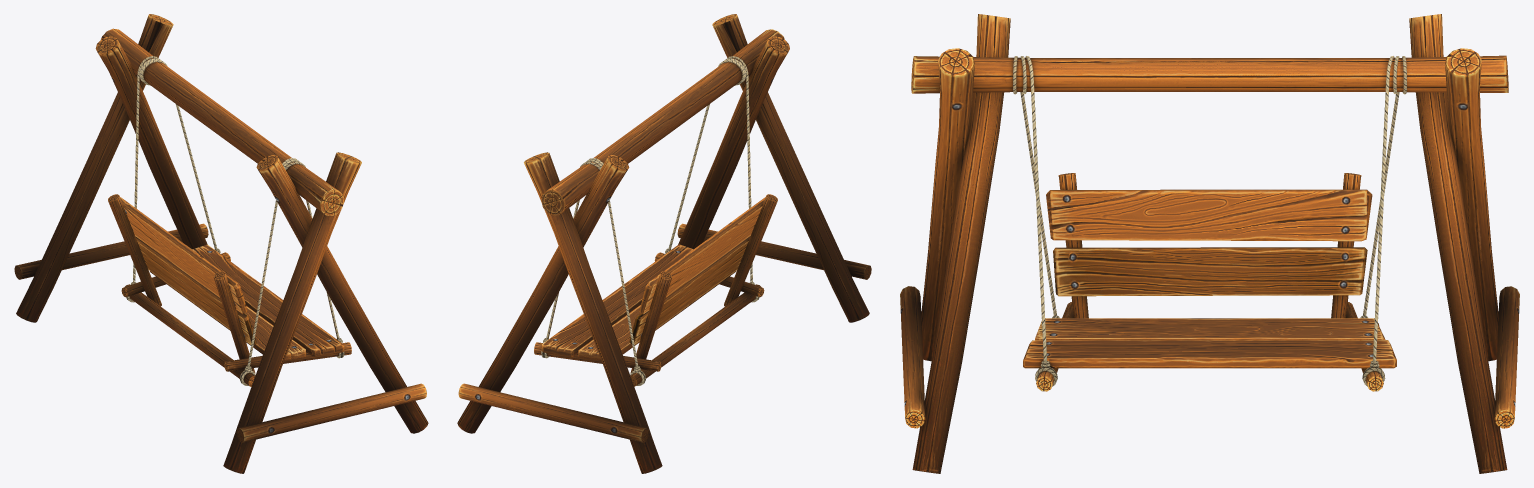
Rendered from wooden_bench_swing.glb.
3 renders of one model, left to right at view 1: azimuth 30°, elevation 25°; view 2: azimuth 150°, elevation 25°; view 3: azimuth 270°, elevation 25°, orthographic. The views are drawn at different scales.
Parts seen in each view (by area): view 1: Object_2; view 2: Object_2; view 3: Object_2.
Part boxes in pixels (<box>): Object_2: <box>14,14,428,473</box>; Object_2: <box>457,14,871,473</box>; Object_2: <box>900,14,1519,473</box>.
Bounding box in the file's own units: 20.6 × 28 × 40.88.
1 material, 1 textured.
